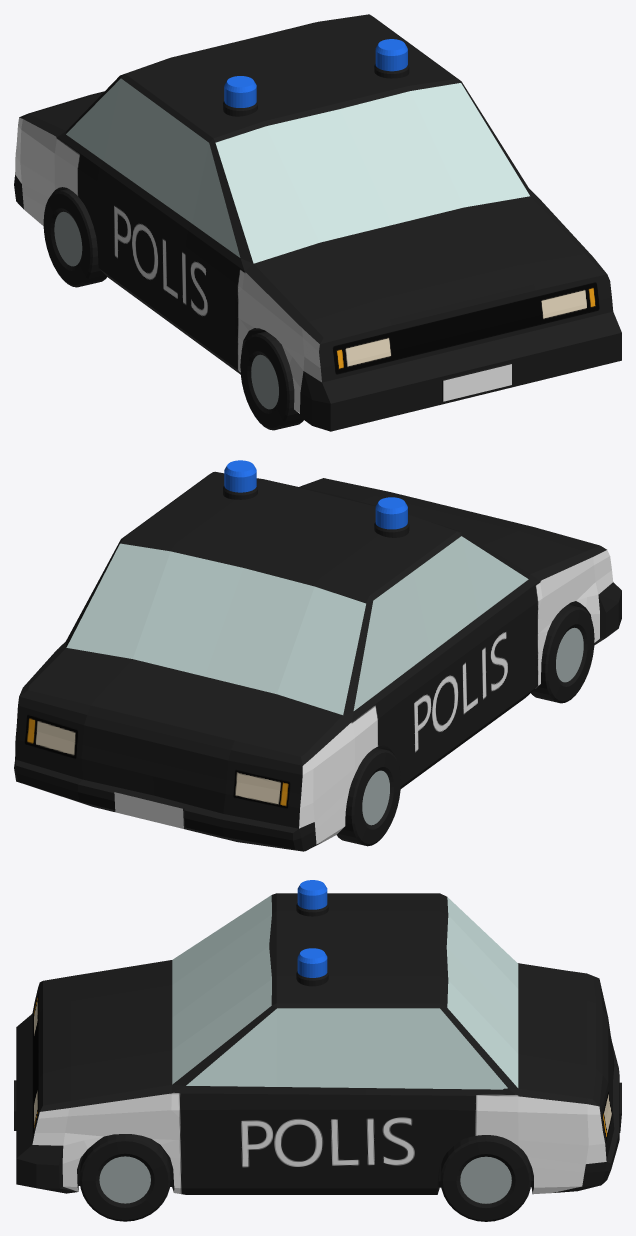
File: police_car.fbx
The picture shows the model from 3 angles, top to bottom: view 1: azimuth 30°, elevation 25°; view 2: azimuth 150°, elevation 25°; view 3: azimuth 270°, elevation 25°; orthographic projection. The views are drawn at different scales.
Visible parts, largest first — view 1: Cube; view 2: Cube; view 3: Cube.
Part boxes in pixels (left/top/right/bottom): Cube: left=14, top=14, right=621, bottom=431; Cube: left=14, top=460, right=621, bottom=851; Cube: left=14, top=880, right=621, bottom=1221.
Bounding box in the file's own units: 304 × 234 × 553.
Materials: 1 (1 with a texture image).
